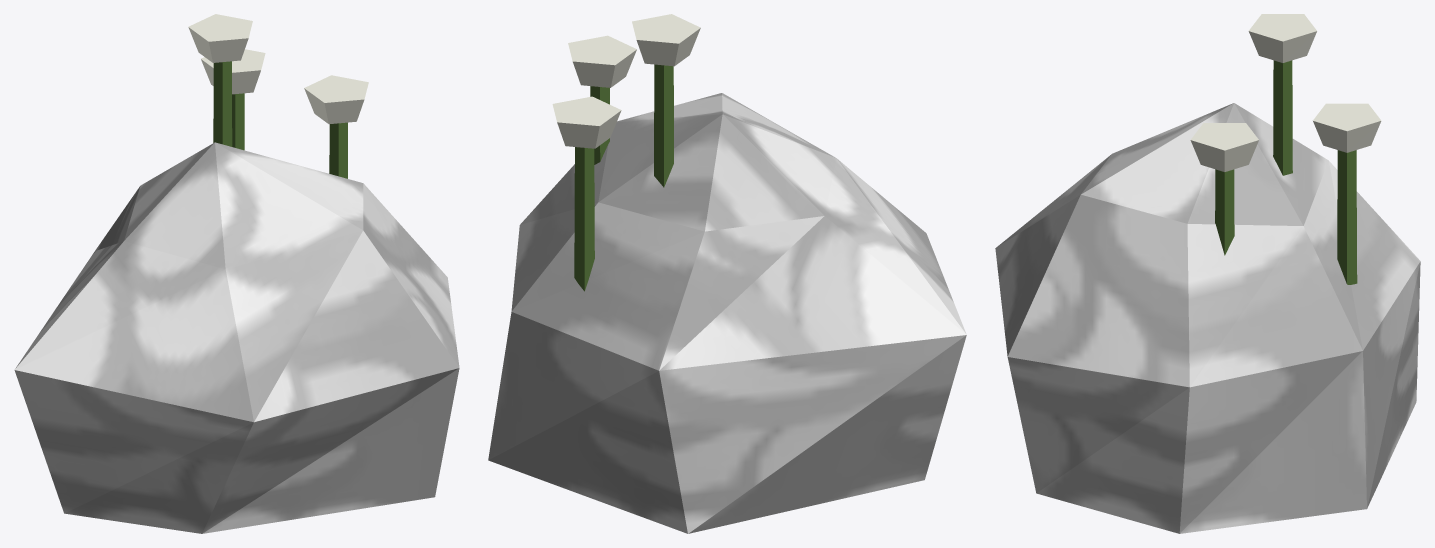
The model's file is psychoid.obj.
The picture shows the model from 3 angles, left to right: view 1: azimuth 30°, elevation 25°; view 2: azimuth 150°, elevation 25°; view 3: azimuth 270°, elevation 25°; orthographic projection. The views are drawn at different scales.
Parts seen in each view (by area): view 1: psychoid; view 2: psychoid; view 3: psychoid.
Boxes of the visible parts, x1=… form: psychoid: x1=14, y1=14, x2=459, y2=533; psychoid: x1=488, y1=14, x2=966, y2=533; psychoid: x1=995, y1=14, x2=1420, y2=533.
Size of the model in its own units: 0.5653 by 0.5129 by 0.4708.
